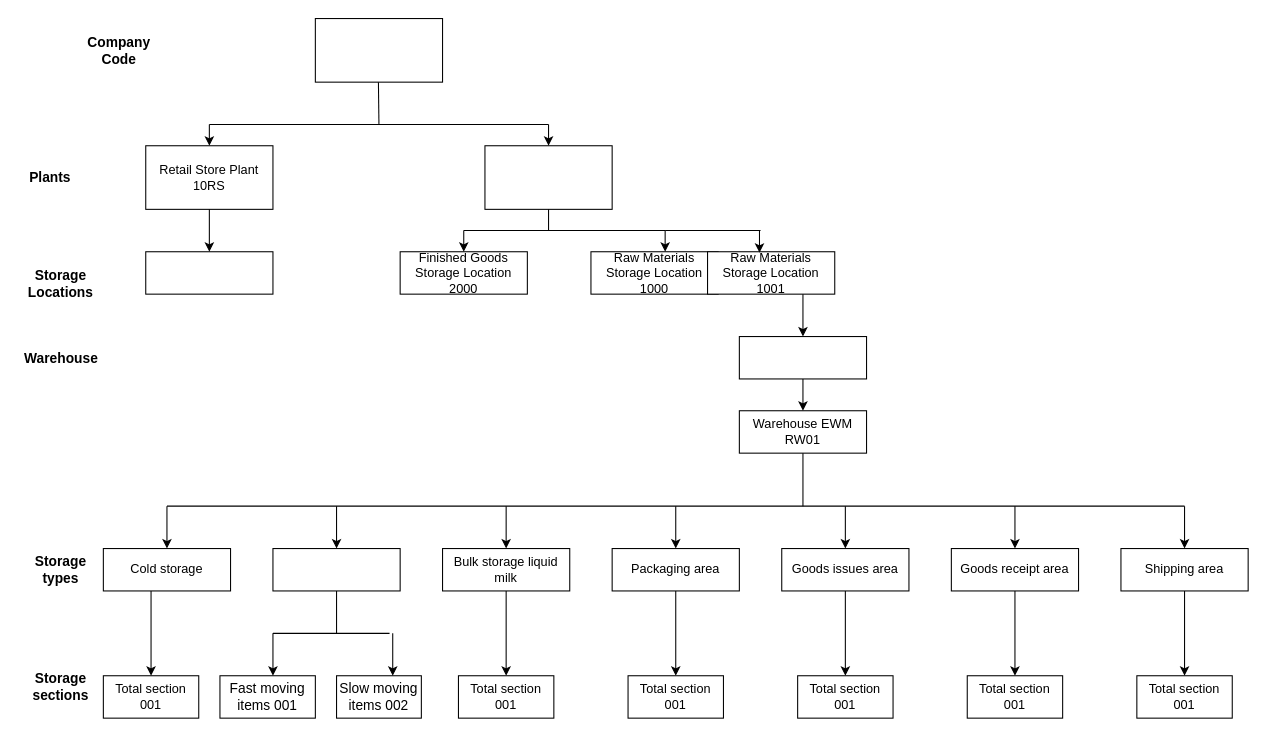
Image size: 1267x737. Some labels were removed from this diagram. The shapes that lost their labels are listed below. From the top down, each one's centre as x and y in pixels, then its label:
At point 378,49: "10RP".
At point 548,177: "Production Plant 10 PP".
At point 209,272: "Retail Store Storage Location 3000".
At point 802,357: "Warehouse ERP RW1".
At point 336,569: "Shelf storage".
